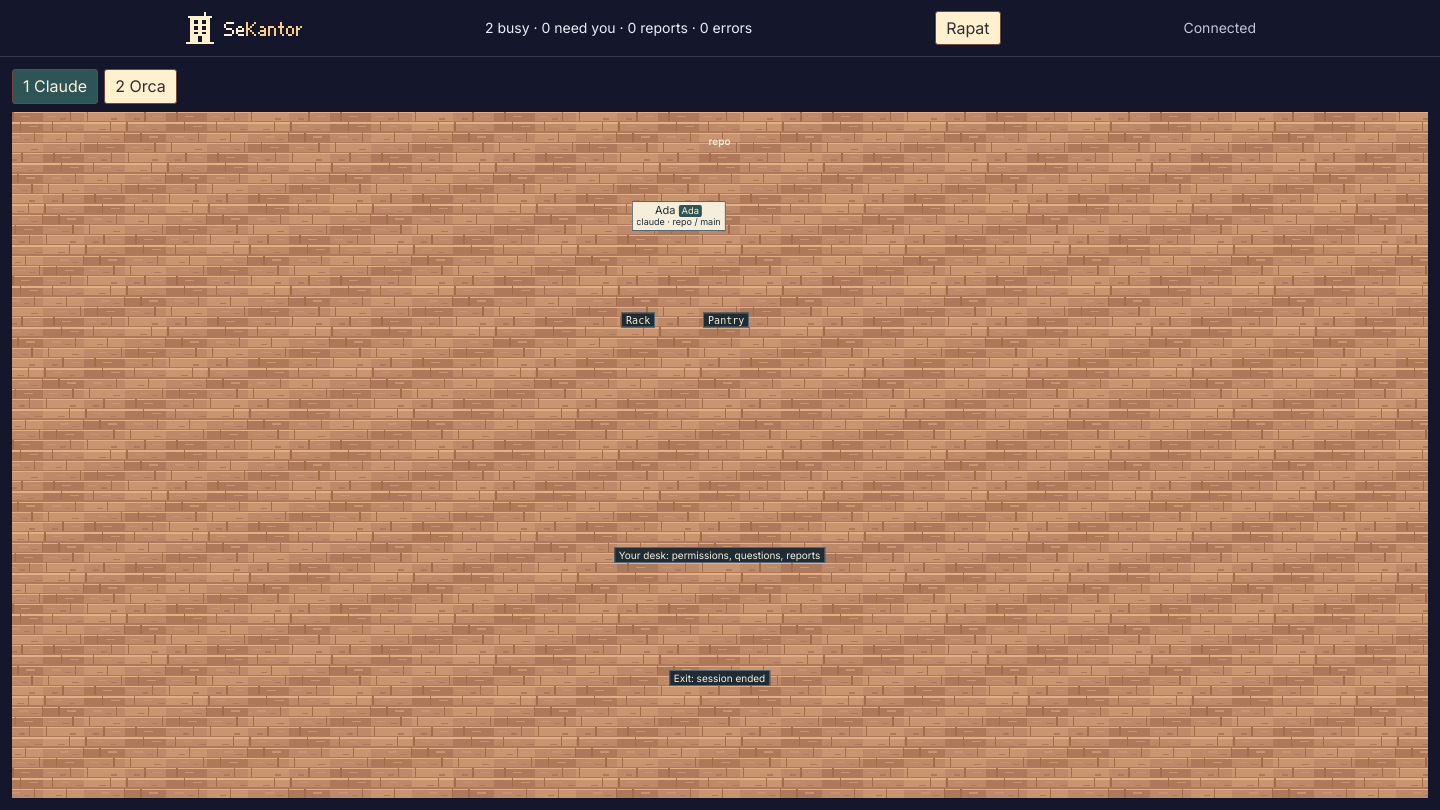
Test: Rapat in the header › opens the agent's existing card from a row
Click the button "Rapat".
click(968, 28)  # box [935,11,1001,45]
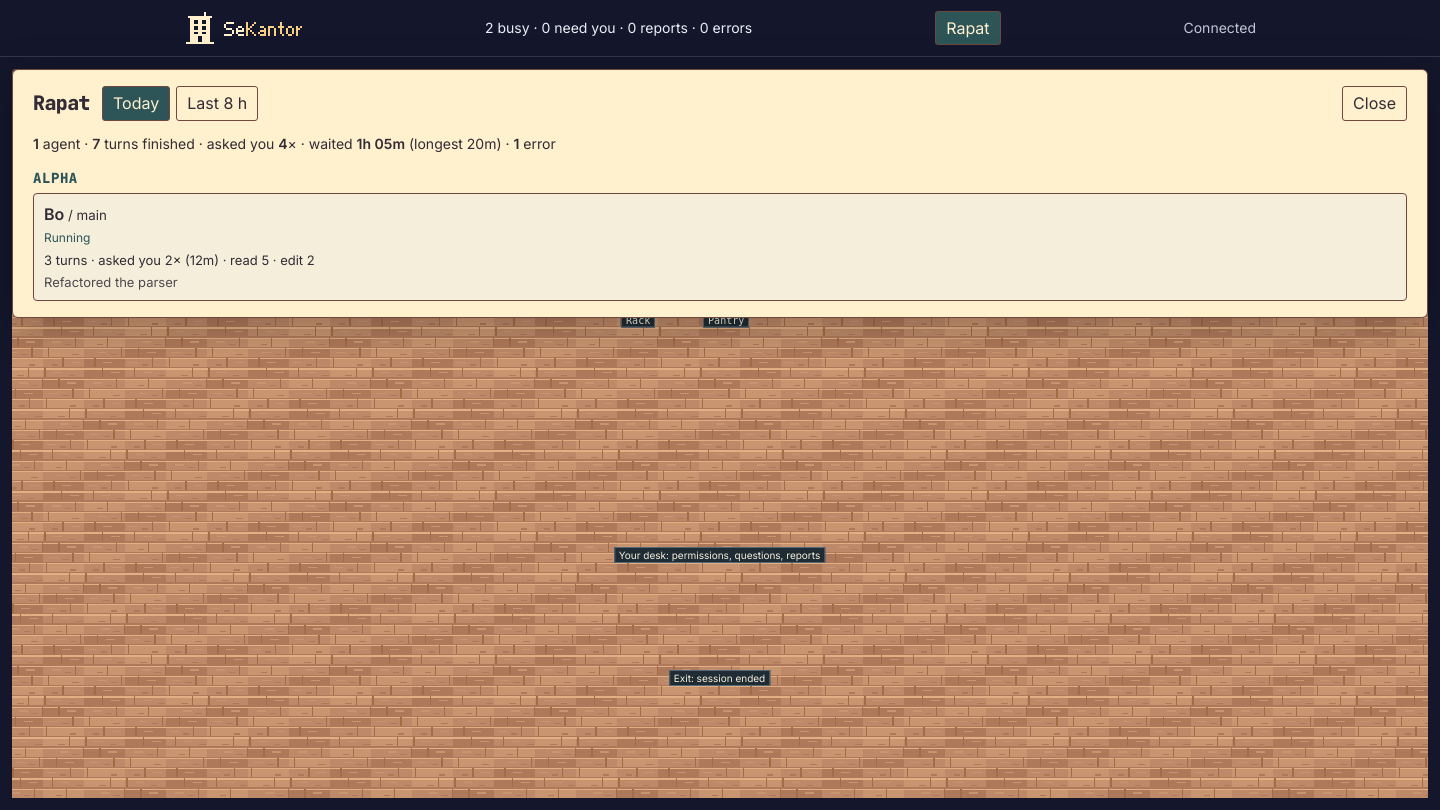
Expected: the button "Bo" is shown
Click the button "Bo".
click(92, 215)  # box [33,193,1407,301]
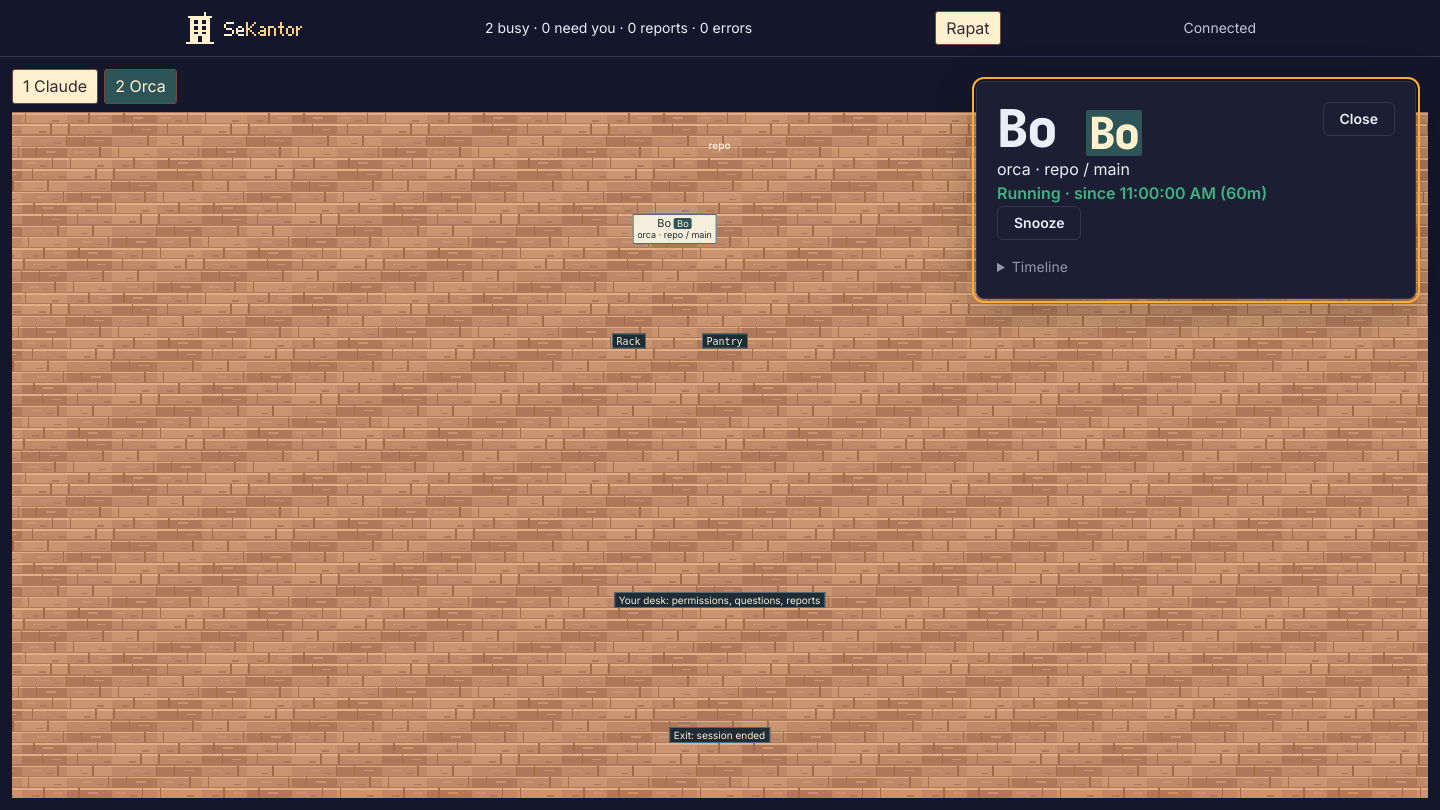
Expected: the dialog named "Bo details" is shown, [976,81,1416,299]
